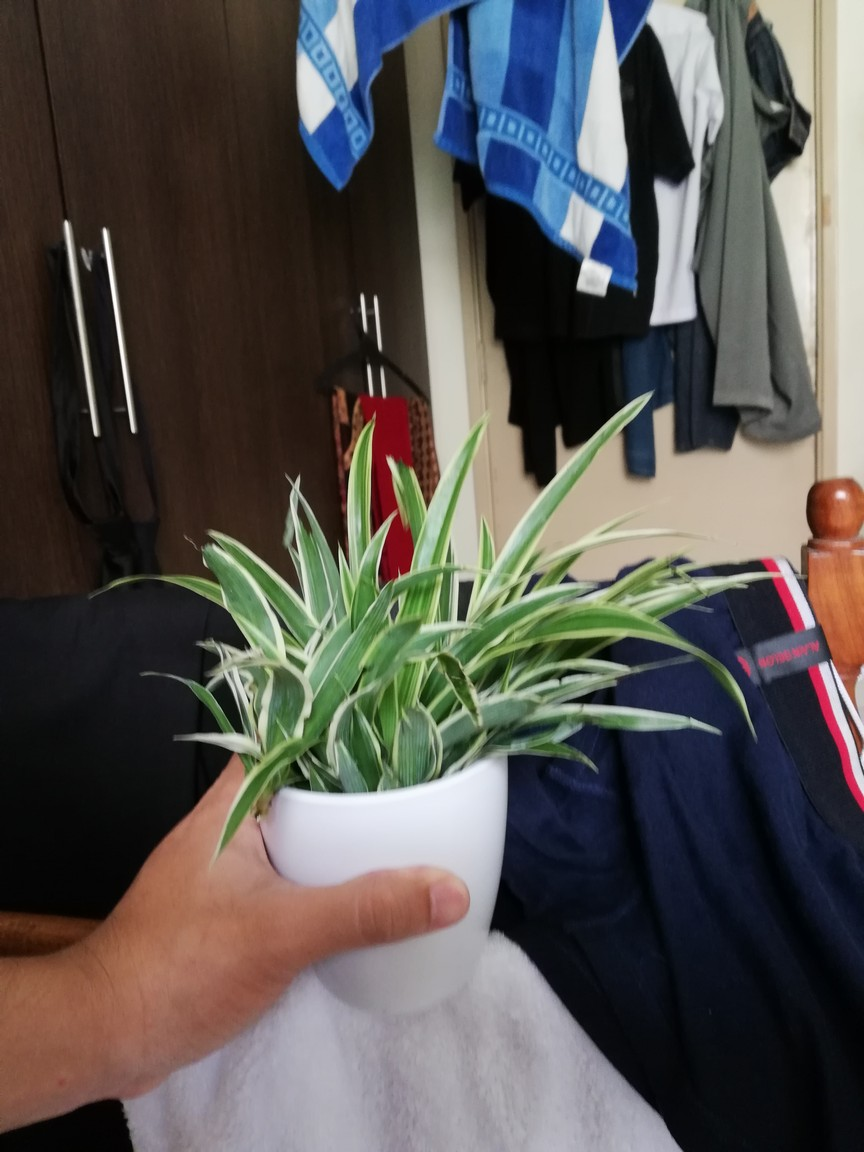daun: (537, 388, 657, 511), (434, 410, 494, 510), (208, 760, 257, 871), (703, 653, 764, 741), (571, 528, 743, 556), (343, 406, 378, 529), (82, 570, 204, 604), (135, 664, 213, 716), (576, 700, 725, 727), (513, 582, 605, 624), (205, 528, 272, 583), (164, 727, 250, 759), (364, 505, 406, 566), (539, 745, 606, 778), (591, 500, 665, 526), (524, 534, 569, 571), (425, 619, 489, 640), (473, 516, 497, 571), (337, 537, 353, 613)
